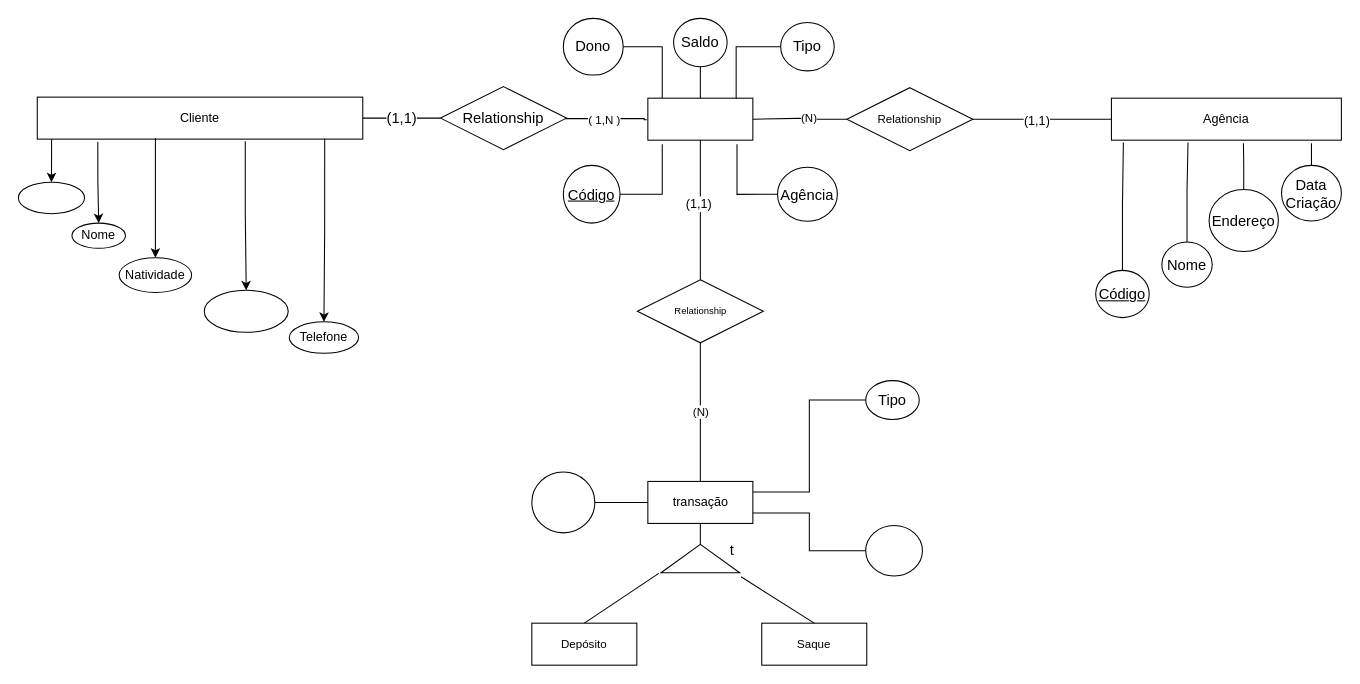
This 1360x684 diagram has some shape labels left out. Here are the shapes that lost their labels. From the top down, the centre of each, then its label:
At (700,118): "Conta".
At (51,197): "CPF".
At (245,310): "Endereço Residencial".
At (563,502): "Conta Origem".
At (893,550): "Valor".
